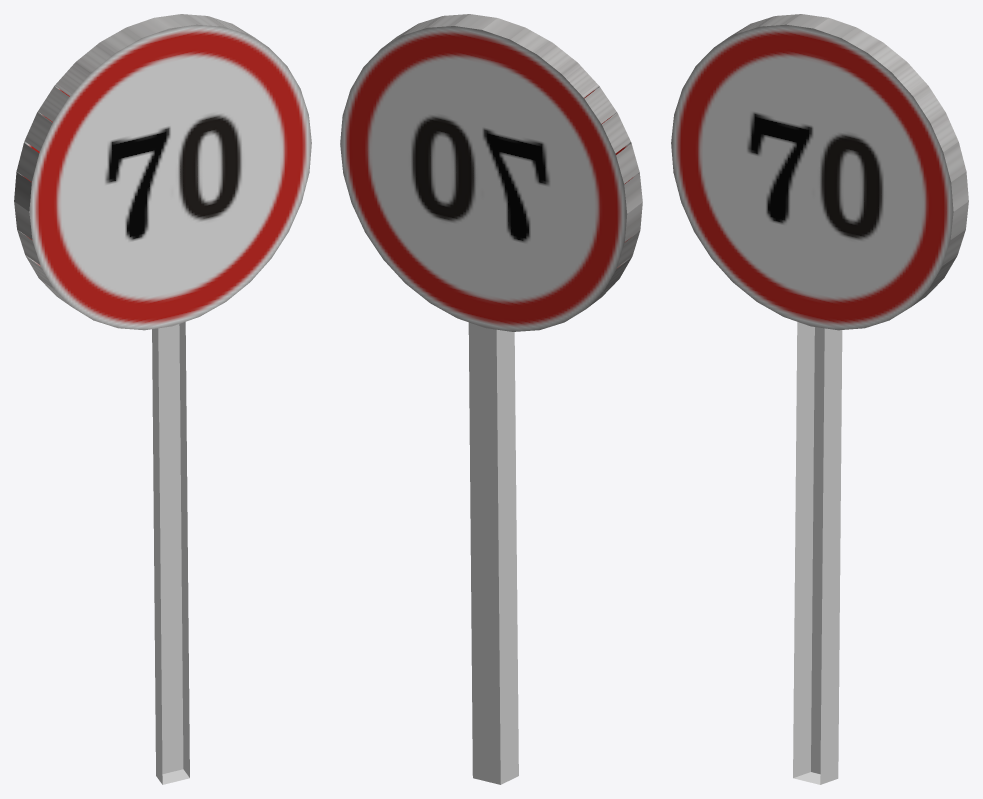
3 renders of one model, left to right at view 1: azimuth 30°, elevation 25°; view 2: azimuth 150°, elevation 25°; view 3: azimuth 330°, elevation 25°, orthographic.
Parts seen in each view (by area): view 1: Cycle, Xui; view 2: Cycle, Xui; view 3: Cycle, Xui.
Part boxes in pixels (x1=…): Cycle: x1=14, y1=14, x2=311, y2=330; Xui: x1=152, y1=322, x2=189, y2=784; Cycle: x1=340, y1=14, x2=642, y2=331; Xui: x1=468, y1=322, x2=518, y2=784; Cycle: x1=671, y1=14, x2=968, y2=330; Xui: x1=793, y1=322, x2=842, y2=784.
Bounding box in the file's own units: 0.2554 × 0.0352 × 0.6471.
1 material, 1 textured.
